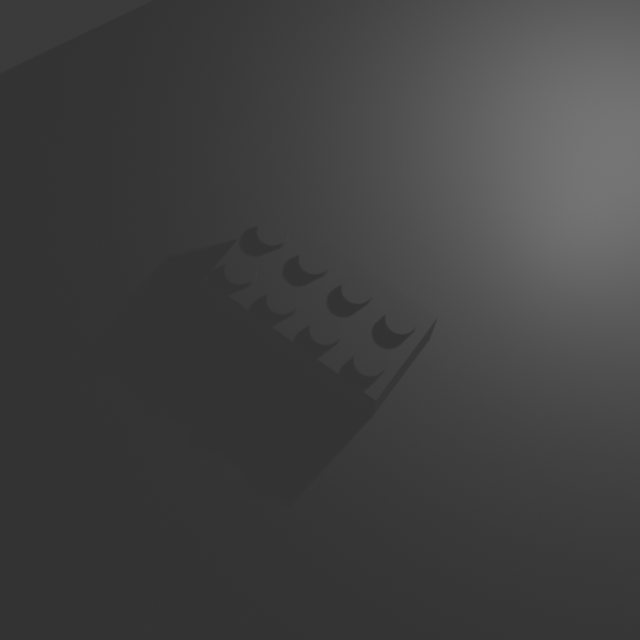lego_2x4: (203, 199, 439, 417)
